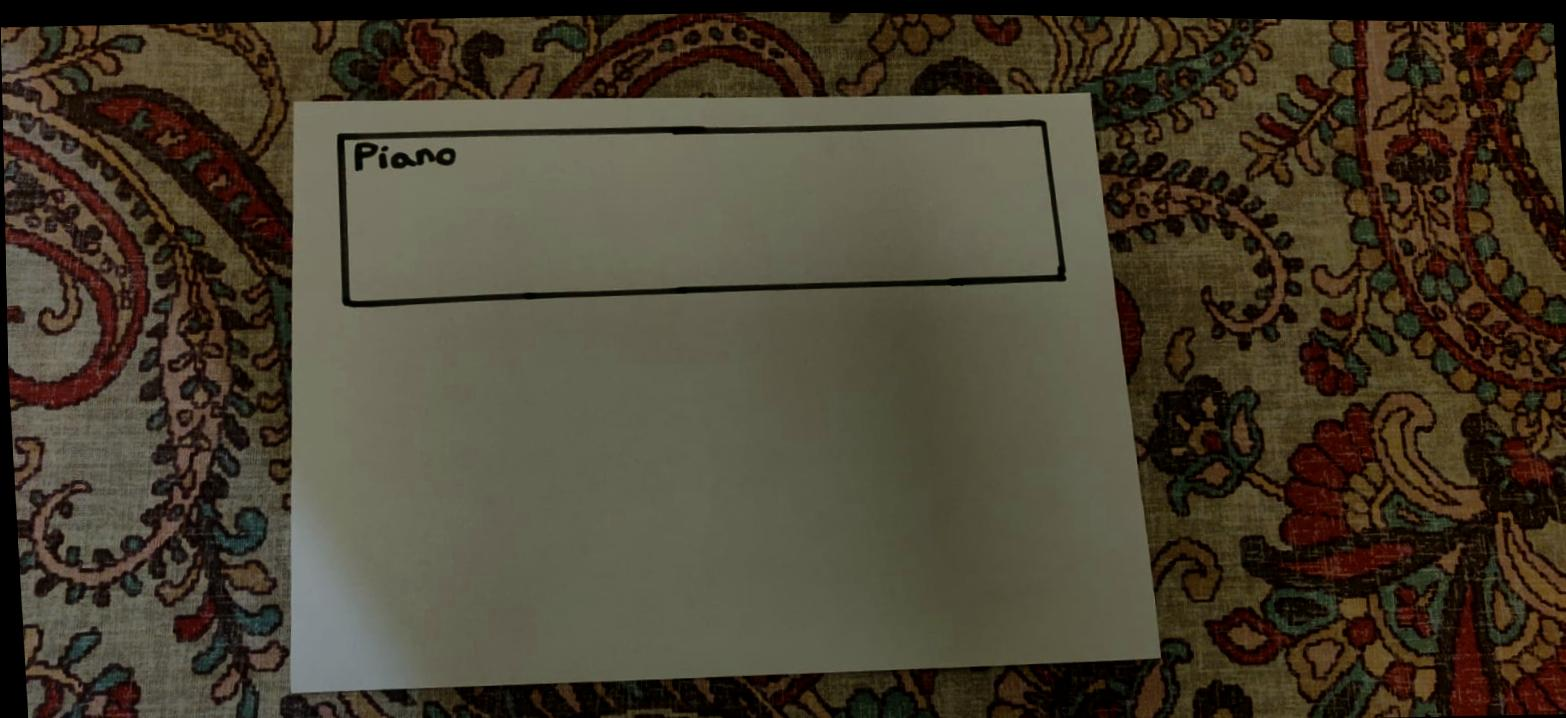paper-piano: (340, 111, 1065, 300)
